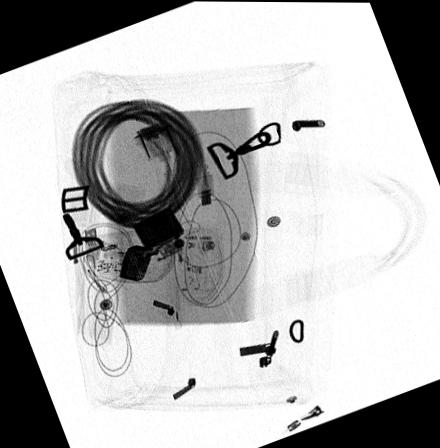Lighter: (119, 204, 185, 280)
